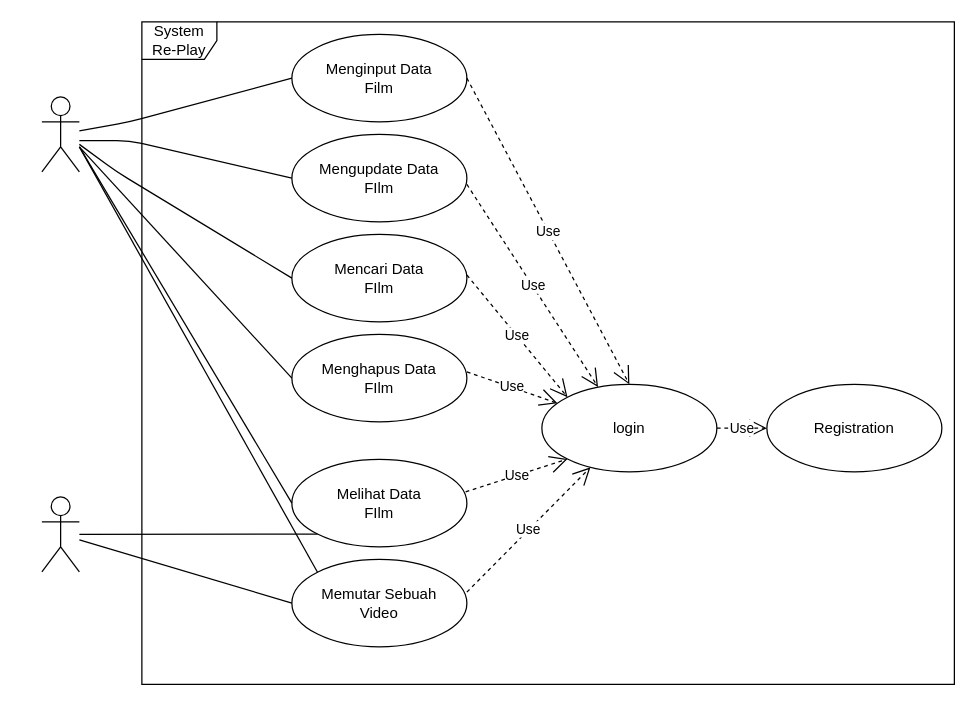
Image size: 976x706. Some labels were removed from this diagram. Each missing label, with the centre of its shape:
"Admin" goes at point 60,134.
"Masyarakat Umum" goes at point 60,534.
